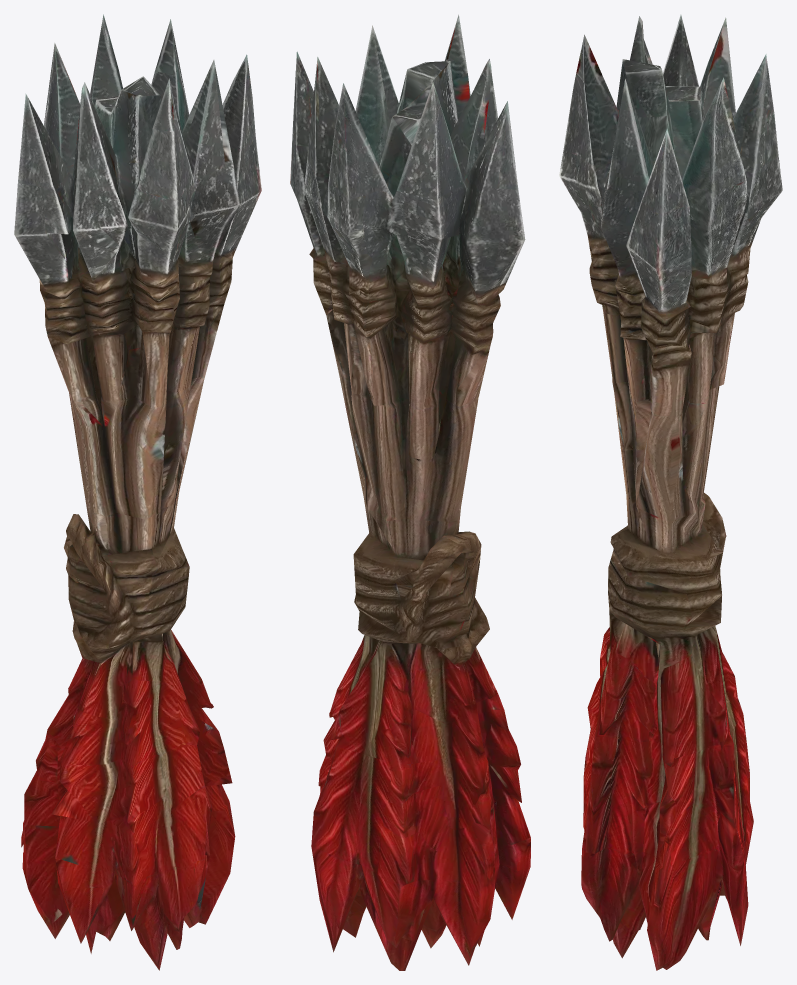
File: Arrows.glb
3 renders of one model, left to right at view 1: azimuth 30°, elevation 25°; view 2: azimuth 150°, elevation 25°; view 3: azimuth 270°, elevation 25°, orthographic.
Bounding box in the file's own units: 0.5231 × 1.9 × 0.4176.
Materials: 1 (1 with a texture image).
